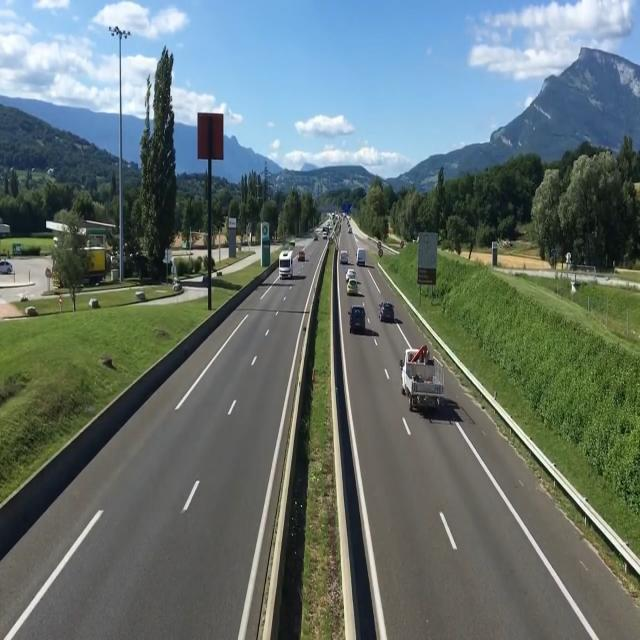car: (402, 342, 438, 418), (278, 246, 292, 286), (352, 302, 368, 336), (346, 266, 362, 300), (380, 299, 398, 327), (357, 247, 368, 270), (298, 246, 307, 268)
